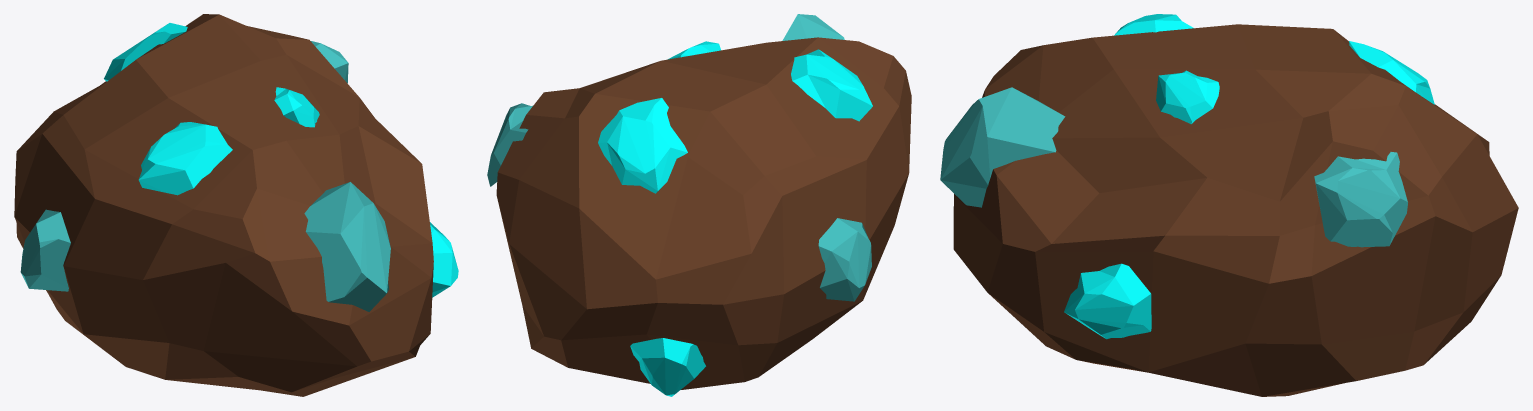
The model's file is MineralNode_07_A.fbx.
3 views of the same model, side by side, from view 1: azimuth 30°, elevation 25°; view 2: azimuth 150°, elevation 25°; view 3: azimuth 270°, elevation 25° (orthographic). The views are drawn at different scales.
Parts seen in each view (by area): view 1: MineralNode_07_A; view 2: MineralNode_07_A; view 3: MineralNode_07_A.
Boxes of the visible parts, left/top/right/bottom form: MineralNode_07_A: left=14, top=14, right=458, bottom=396; MineralNode_07_A: left=487, top=14, right=911, bottom=396; MineralNode_07_A: left=940, top=14, right=1518, bottom=396.
Bounding box in the file's own units: 82 × 59.94 × 105.
